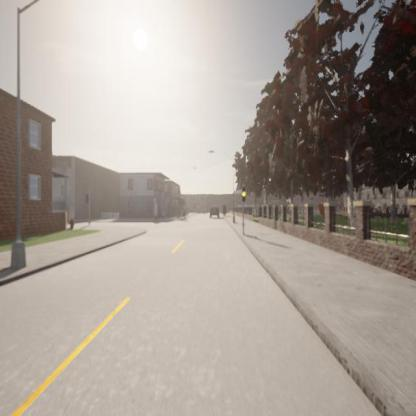traffic_light_orange: (242, 186, 246, 203)
